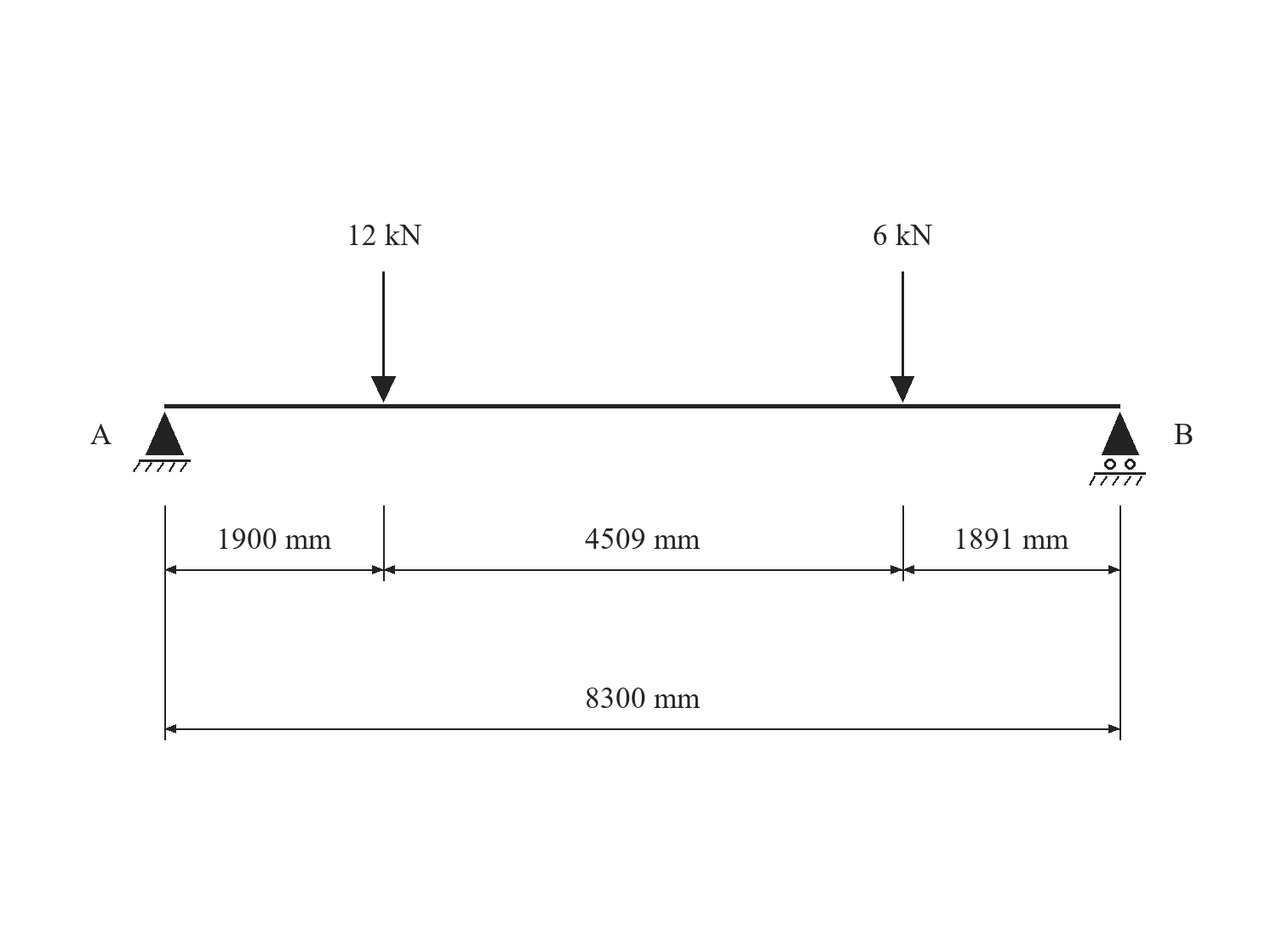pin_support: (133, 412, 191, 472)
point_load: (371, 271, 396, 402), (890, 271, 914, 402)
roller_support: (1089, 412, 1146, 486)
